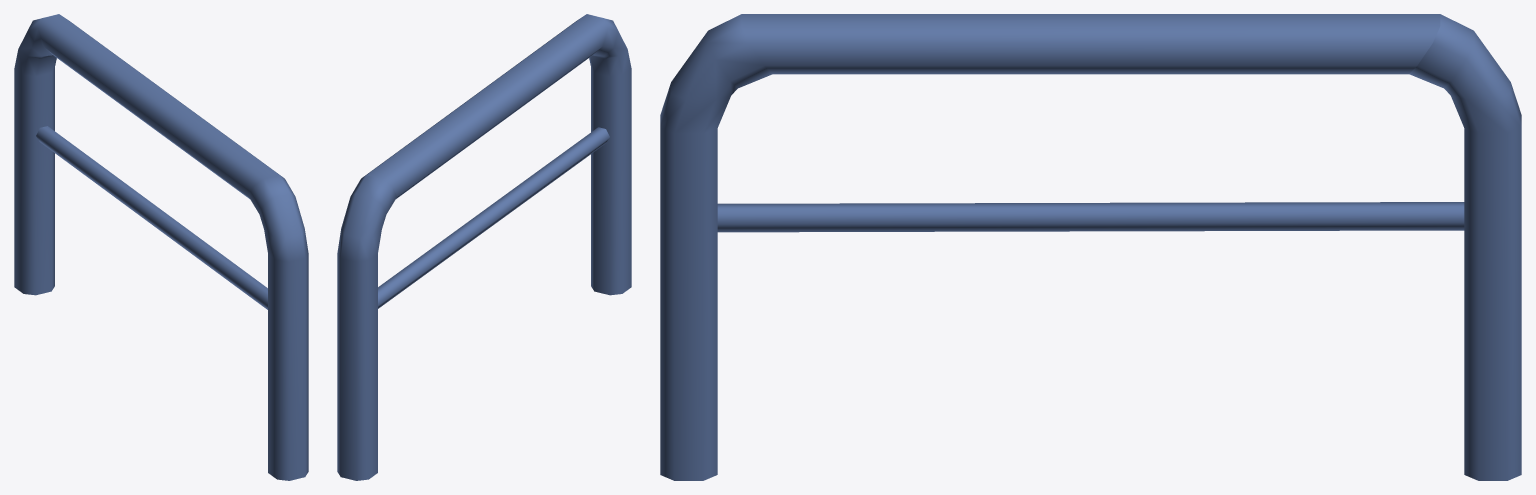
The model's file is VarandaCorta.fbx.
3 renders of one model, left to right at view 1: azimuth 30°, elevation 25°; view 2: azimuth 150°, elevation 25°; view 3: azimuth 270°, elevation 25°, orthographic. The views are drawn at different scales.
Parts seen in each view (by area): view 1: pCube24; view 2: pCube24; view 3: pCube24.
Part boxes in pixels (x1=…): pCube24: x1=14, y1=14, x2=308, y2=480; pCube24: x1=337, y1=14, x2=631, y2=480; pCube24: x1=660, y1=14, x2=1521, y2=480.
Bounding box in the file's own units: 14.03 × 121 × 210.
